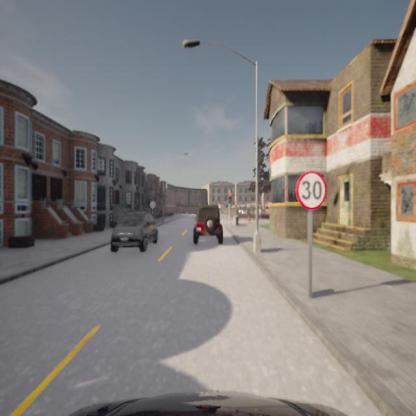traffic_light_red: (228, 192, 232, 202)
traffic_sign_30: (294, 169, 328, 210)
vehicle: (111, 213, 160, 252), (192, 203, 222, 241)
